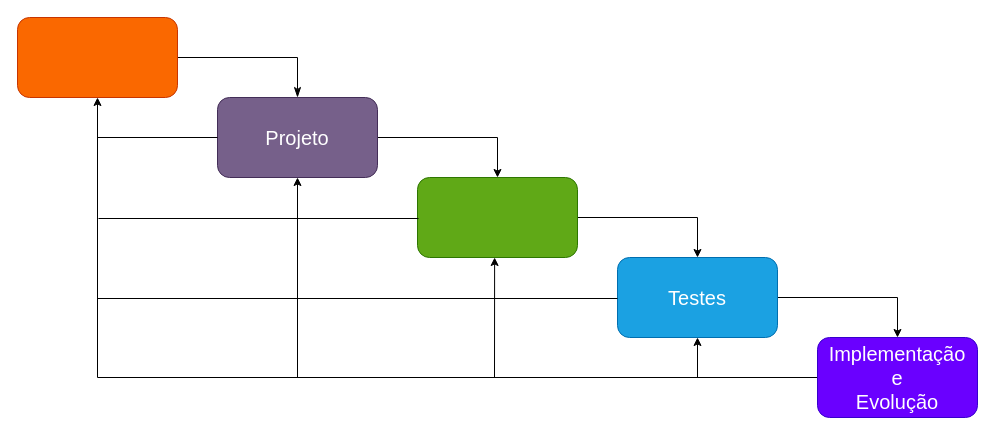
The diagram is 995 pixels wide and 435 high, and some of its shapes have lost their labels. The centre of each missing label's shape, as x and y in pixels:
Análise: (97,57)
Codificação: (497,217)
